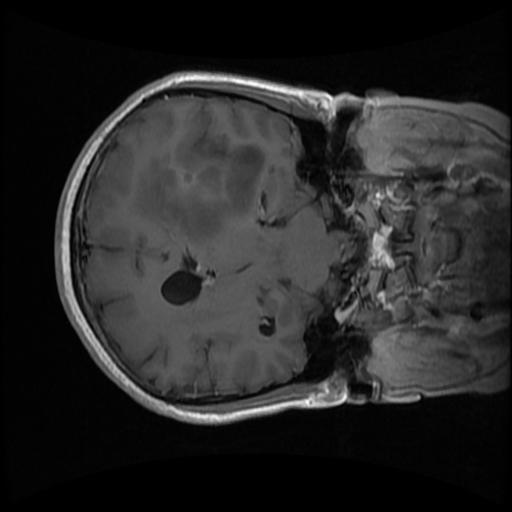glioma: (128, 105, 266, 248)
